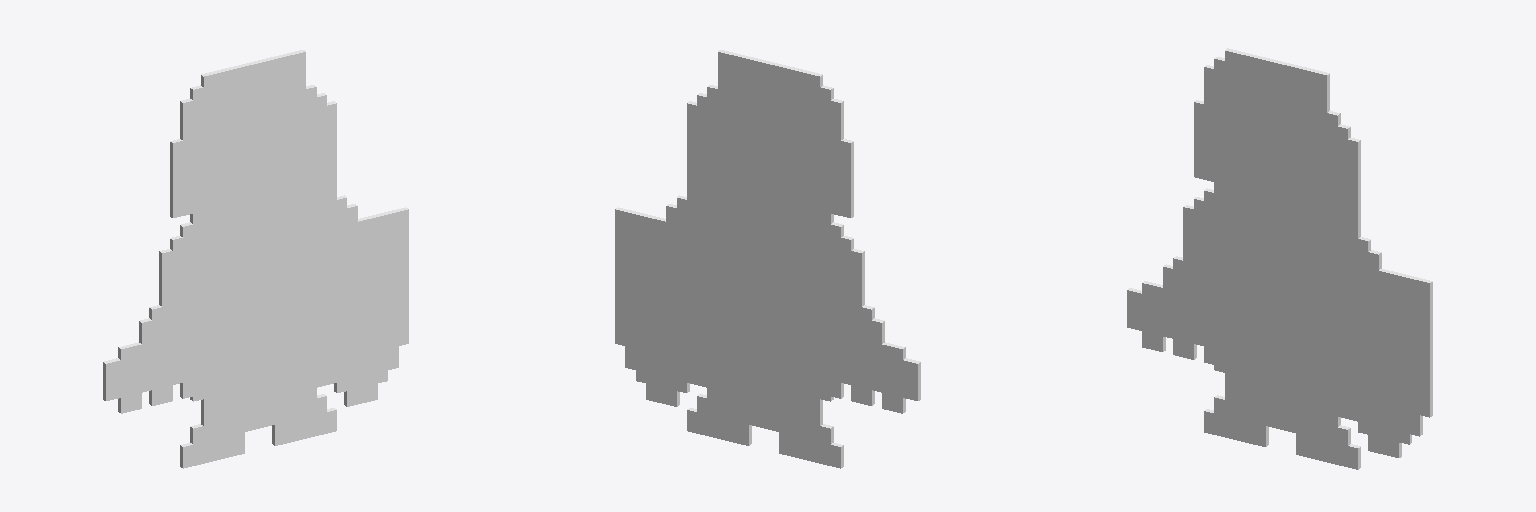
File: untitled-0-Gueirro.obj
The picture shows the model from 3 angles: view 1: azimuth 30°, elevation 25°; view 2: azimuth 150°, elevation 25°; view 3: azimuth 330°, elevation 25°; orthographic projection.
Parts seen in each view (by area): view 1: Gueirro; view 2: Gueirro; view 3: Gueirro.
Boxes of the visible parts, x1,y1,x2,y2 form: Gueirro: [103, 50, 408, 468]; Gueirro: [615, 50, 920, 468]; Gueirro: [1127, 48, 1432, 469].
Size of the model in its own units: 5.9 by 7.2 by 0.1.